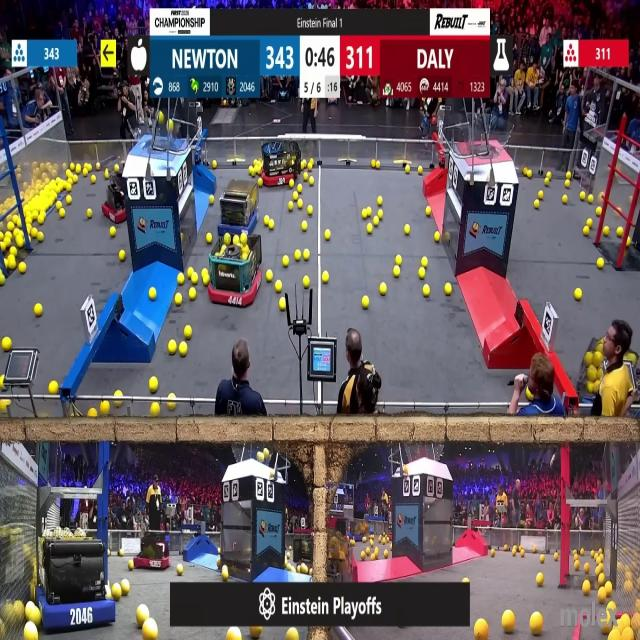ball_airborne: (258, 452, 264, 462), (160, 111, 165, 122), (169, 119, 174, 129), (266, 449, 270, 457)
ball_ground: (530, 614, 543, 636), (142, 621, 156, 640), (502, 612, 514, 634), (137, 608, 148, 628), (26, 626, 38, 639), (250, 626, 260, 640), (112, 586, 121, 601), (598, 588, 606, 604), (169, 342, 178, 356), (2, 338, 11, 352), (583, 582, 592, 596), (101, 401, 110, 415), (150, 404, 159, 417), (601, 622, 610, 635), (179, 343, 187, 357), (149, 378, 157, 392), (121, 582, 129, 596), (287, 629, 298, 639), (48, 382, 57, 394), (232, 629, 242, 639), (623, 631, 634, 640), (536, 572, 543, 586), (221, 566, 228, 580), (34, 305, 42, 317), (7, 259, 15, 271), (184, 325, 191, 338), (380, 283, 388, 294), (90, 409, 98, 420), (279, 300, 286, 312), (178, 274, 185, 286), (597, 257, 604, 269), (188, 288, 195, 300), (16, 236, 23, 248), (203, 274, 210, 286), (602, 226, 610, 236), (362, 295, 368, 308), (175, 293, 182, 304), (118, 250, 125, 261), (421, 256, 428, 267), (322, 272, 328, 284), (276, 280, 282, 292), (574, 288, 580, 300), (304, 276, 310, 288), (149, 288, 155, 300), (419, 269, 426, 279), (393, 268, 400, 278), (169, 400, 176, 410), (304, 250, 311, 260), (446, 284, 453, 294), (190, 275, 197, 285), (37, 233, 44, 243), (0, 400, 7, 410), (598, 574, 605, 584), (0, 241, 7, 251), (607, 601, 614, 611), (18, 264, 24, 275), (423, 285, 429, 296), (283, 255, 289, 266), (268, 271, 274, 282), (206, 234, 212, 245), (294, 250, 300, 261), (38, 212, 44, 223), (302, 221, 309, 230), (374, 217, 381, 226), (434, 233, 440, 243), (178, 564, 184, 574), (396, 254, 402, 264), (403, 224, 409, 234), (324, 231, 330, 241), (366, 223, 372, 233), (361, 209, 367, 219), (618, 226, 624, 236), (526, 391, 532, 401), (0, 275, 5, 286), (308, 206, 314, 215), (596, 207, 602, 216), (269, 220, 275, 229), (110, 229, 116, 238), (584, 226, 590, 235), (292, 190, 298, 199), (10, 247, 16, 256), (75, 166, 81, 175), (66, 182, 72, 191), (370, 161, 376, 170), (7, 222, 13, 231), (32, 230, 38, 239), (596, 565, 602, 574), (0, 377, 4, 390), (88, 209, 93, 219), (379, 209, 384, 219), (378, 197, 383, 207), (115, 390, 122, 397), (579, 191, 585, 199), (169, 392, 175, 400), (587, 218, 593, 226), (406, 165, 412, 173), (296, 201, 302, 209), (462, 576, 468, 584), (573, 562, 579, 570), (566, 172, 572, 180), (288, 180, 294, 188), (72, 175, 78, 183), (66, 170, 72, 178), (82, 168, 88, 176), (585, 564, 591, 572), (299, 162, 305, 170), (187, 269, 193, 277), (284, 561, 290, 569), (61, 209, 66, 218), (130, 561, 135, 570), (288, 203, 293, 212), (589, 193, 594, 202), (555, 553, 560, 562), (534, 200, 539, 209), (418, 168, 424, 175), (114, 166, 120, 173), (115, 399, 121, 406), (563, 194, 568, 202), (212, 162, 217, 170), (67, 197, 72, 205), (265, 216, 270, 224), (297, 184, 302, 192), (257, 178, 262, 186), (565, 182, 570, 190), (527, 170, 532, 178), (491, 550, 496, 558), (306, 161, 311, 169), (376, 162, 381, 170), (360, 553, 365, 561), (426, 207, 430, 216), (540, 555, 544, 564), (210, 194, 214, 203), (627, 239, 632, 246), (532, 545, 537, 552), (503, 543, 508, 550), (538, 190, 542, 198), (544, 178, 548, 186), (249, 168, 253, 176), (385, 552, 389, 560), (105, 171, 109, 179), (58, 202, 62, 210), (0, 234, 4, 242), (370, 555, 375, 561), (118, 551, 123, 557), (93, 176, 97, 183), (308, 180, 312, 187), (546, 172, 550, 179), (97, 165, 101, 172), (580, 550, 584, 557), (521, 552, 525, 559), (514, 550, 518, 557), (218, 547, 220, 553)
goal: (460, 118, 516, 158), (128, 116, 187, 152)
robot_blue: (34, 530, 114, 628), (220, 180, 260, 238), (350, 519, 376, 543)
robot_red: (208, 236, 263, 308), (261, 138, 302, 185), (136, 531, 171, 571), (101, 178, 127, 225)
